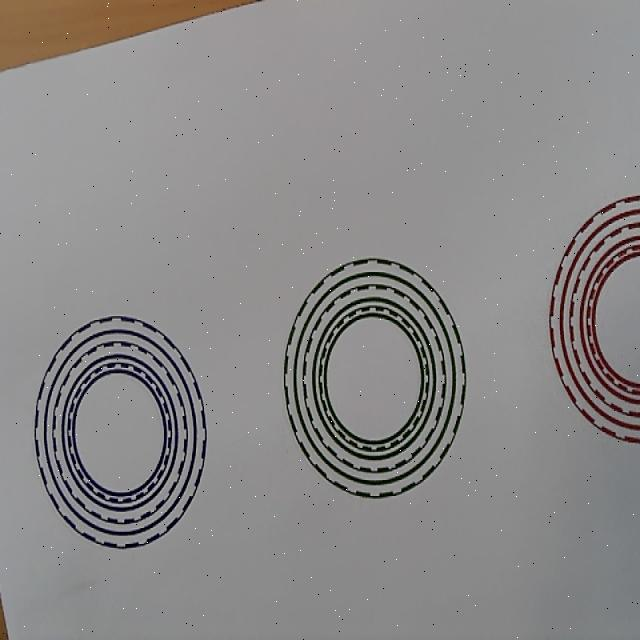b: (34, 314, 206, 550)
g: (284, 256, 466, 501)
